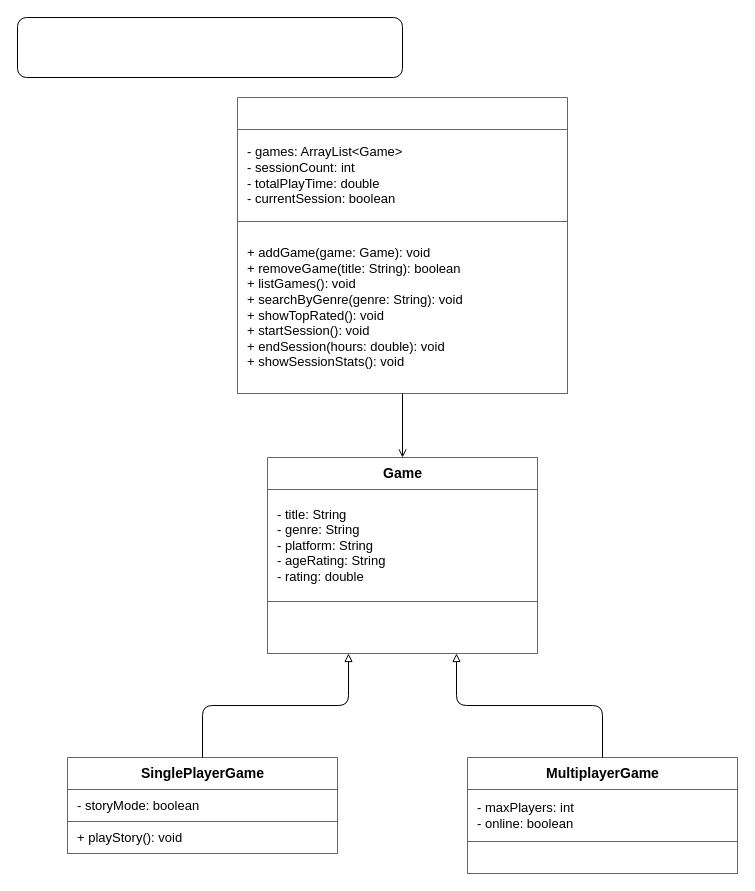
This 755x891 diagram has some shape labels left out. Each missing label, with the box of its shape:
+ displayInfo(): void + rate(score: double): void: (266, 600, 538, 654)
+ joinGame(): void: (466, 840, 738, 874)
Anthony Joseph Perry,: (16, 16, 402, 78)
GameLibrary: (236, 96, 568, 394)
